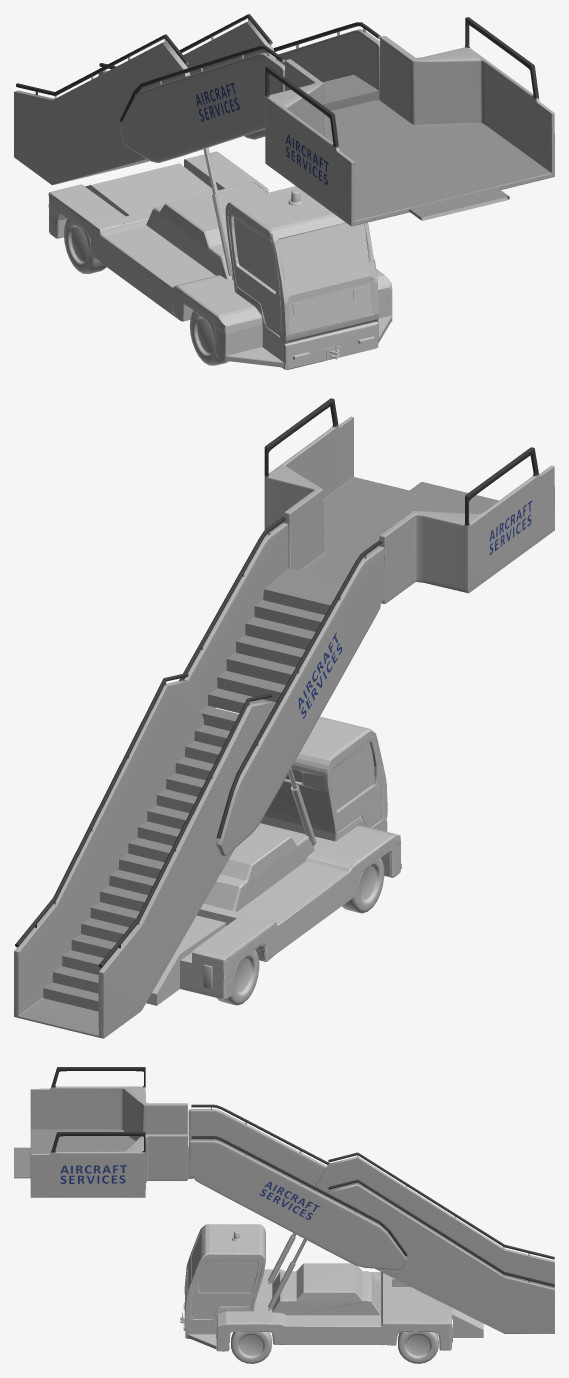
Rendered from aircraft stairs .fbx.
The picture shows the model from 3 angles, top to bottom: view 1: azimuth 30°, elevation 25°; view 2: azimuth 150°, elevation 25°; view 3: azimuth 270°, elevation 25°; orthographic projection. The views are drawn at different scales.
Visible parts, largest first — view 1: Cube.054_T_Boardng_truck_0, SM_Boarding_stairs_platform_M_Boarding_truck_stairs_0, SM_Boarding_stairs_truck_stairs_2_M_Boarding_truck_stairs_0, SM_Boarding_stairs_truck_handle_1_M_Boarding_truck_stairs_0, SM_Boarding_stairs_wheel.008_T_Boardng_truck_0, SM_Boarding_stairs_wheel.003_T_Boardng_truck_0; view 2: SM_Boarding_stairs_truck_handle_1_M_Boarding_truck_stairs_0, Cube.054_T_Boardng_truck_0, SM_Boarding_stairs_truck_stairs_2_M_Boarding_truck_stairs_0, SM_Boarding_stairs_platform_M_Boarding_truck_stairs_0, SM_Boarding_stairs_wheel.003_T_Boardng_truck_0, SM_Boarding_stairs_wheel.008_T_Boardng_truck_0; view 3: Cube.054_T_Boardng_truck_0, SM_Boarding_stairs_truck_handle_1_M_Boarding_truck_stairs_0, SM_Boarding_stairs_platform_M_Boarding_truck_stairs_0, SM_Boarding_stairs_truck_stairs_2_M_Boarding_truck_stairs_0, SM_Boarding_stairs_wheel_T_Boardng_truck_0, SM_Boarding_stairs_wheel.002_T_Boardng_truck_0.
Boxes of the visible parts, x1,y1,x2,y2 form: Cube.054_T_Boardng_truck_0: (48,148,392,369); SM_Boarding_stairs_platform_M_Boarding_truck_stairs_0: (265,17,554,226); SM_Boarding_stairs_truck_stairs_2_M_Boarding_truck_stairs_0: (119,22,380,162); SM_Boarding_stairs_truck_handle_1_M_Boarding_truck_stairs_0: (14,14,275,184); SM_Boarding_stairs_wheel.008_T_Boardng_truck_0: (64,219,106,273); SM_Boarding_stairs_wheel.003_T_Boardng_truck_0: (189,311,227,365); SM_Boarding_stairs_truck_handle_1_M_Boarding_truck_stairs_0: (14,673,274,1038); Cube.054_T_Boardng_truck_0: (146,716,401,1005); SM_Boarding_stairs_truck_stairs_2_M_Boarding_truck_stairs_0: (179,516,384,856); SM_Boarding_stairs_platform_M_Boarding_truck_stairs_0: (264,398,554,603); SM_Boarding_stairs_wheel.003_T_Boardng_truck_0: (342,858,384,913); SM_Boarding_stairs_wheel.008_T_Boardng_truck_0: (217,950,259,1005); Cube.054_T_Boardng_truck_0: (180,1224,483,1351); SM_Boarding_stairs_truck_handle_1_M_Boarding_truck_stairs_0: (313,1152,554,1333); SM_Boarding_stairs_platform_M_Boarding_truck_stairs_0: (14,1067,194,1197); SM_Boarding_stairs_truck_stairs_2_M_Boarding_truck_stairs_0: (188,1104,407,1269); SM_Boarding_stairs_wheel_T_Boardng_truck_0: (231,1332,271,1363); SM_Boarding_stairs_wheel.002_T_Boardng_truck_0: (398,1332,438,1363).
Size of the model in its own units: 348 by 589 by 1202.
